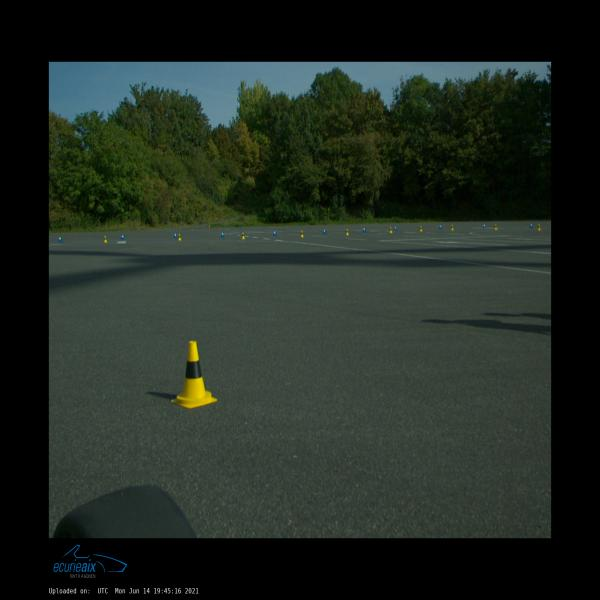blue_cone: (58, 236, 62, 242), (221, 231, 224, 238), (272, 230, 276, 235), (121, 234, 125, 239), (530, 222, 533, 228), (482, 223, 485, 229), (438, 224, 441, 230), (395, 225, 398, 231), (323, 228, 326, 234), (174, 232, 177, 238), (363, 227, 366, 232)
yellow_cone: (172, 341, 218, 409), (241, 232, 246, 239), (300, 230, 304, 238), (537, 224, 541, 231), (178, 234, 182, 241), (104, 235, 108, 242), (419, 226, 423, 232), (389, 227, 393, 233), (346, 229, 350, 235), (450, 225, 454, 230), (494, 224, 497, 230)
